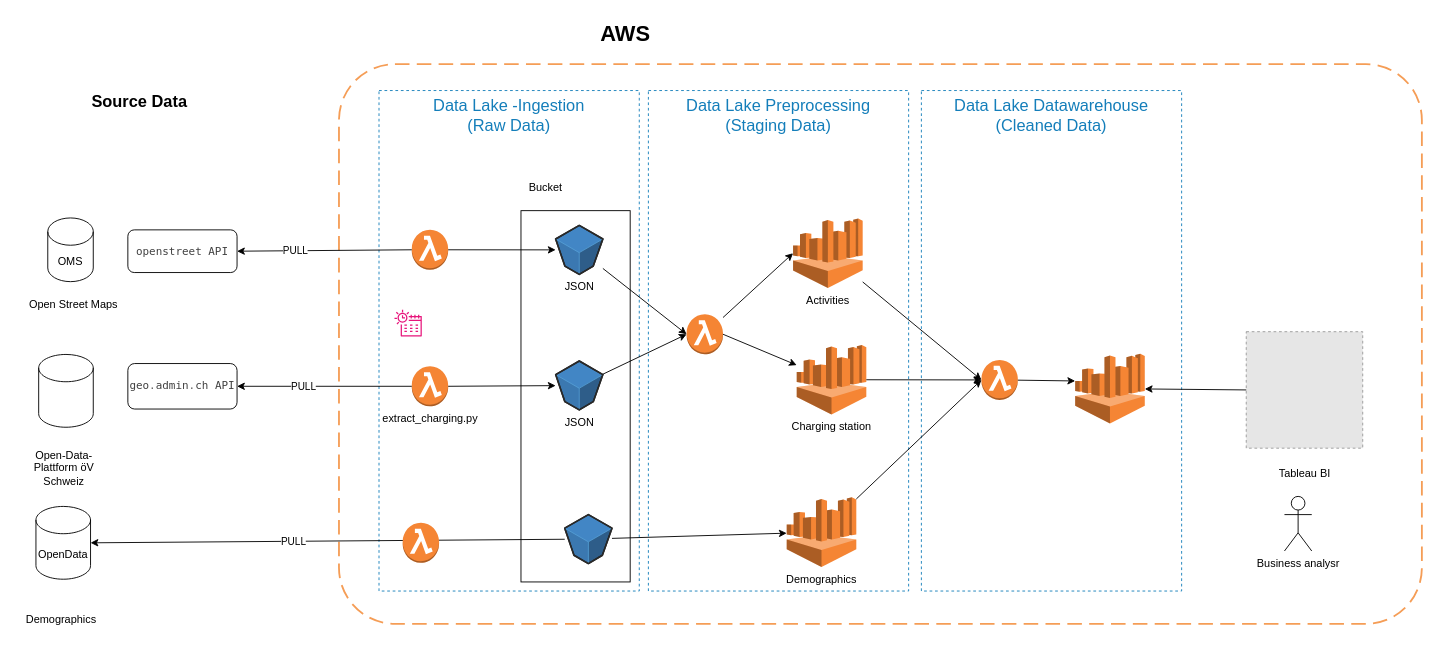
Image size: 1438x649. Some labels were removed from this diagram. Grey dashed boxes stand in for pictures. The centre of each missing label's shape, as x and y in pixels:
10 minutes: the point at 407,322
CSV: the point at 588,539
Datawarehouse: the point at 1109,388
extract_activities.py: the point at 429,249
extract_demogtraphics.py: the point at 420,542
OV Data: the point at 65,390
preprocesssing.py: the point at 704,333
to_dw (1 Off): the point at 999,379
